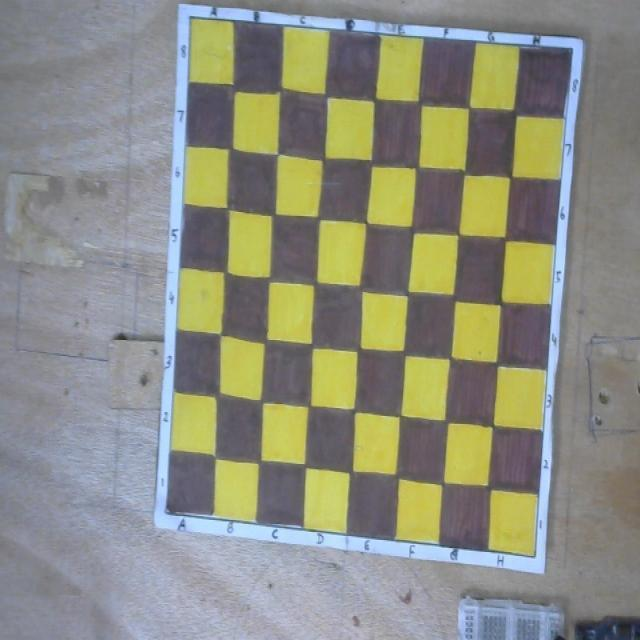chess-table-corners: (164, 510, 168, 514), (570, 47, 574, 51), (188, 15, 191, 19), (534, 554, 536, 558)
